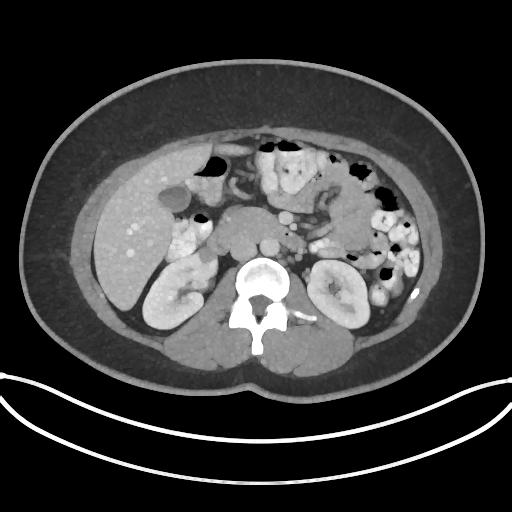Lesion: (195, 243, 218, 267)
